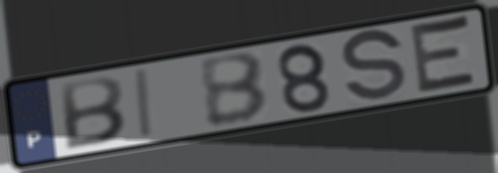8: (275, 40, 333, 115)
B: (196, 49, 272, 130), (58, 74, 128, 152)
E: (408, 12, 482, 98)
I: (134, 66, 158, 142)
S: (339, 26, 410, 107)
